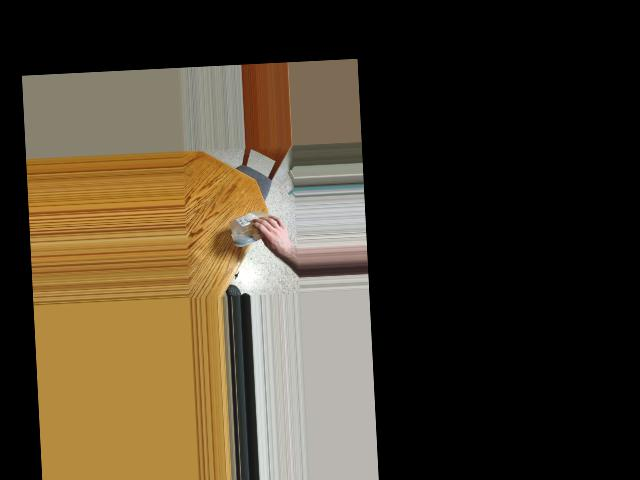cheese: (231, 209, 272, 244)
